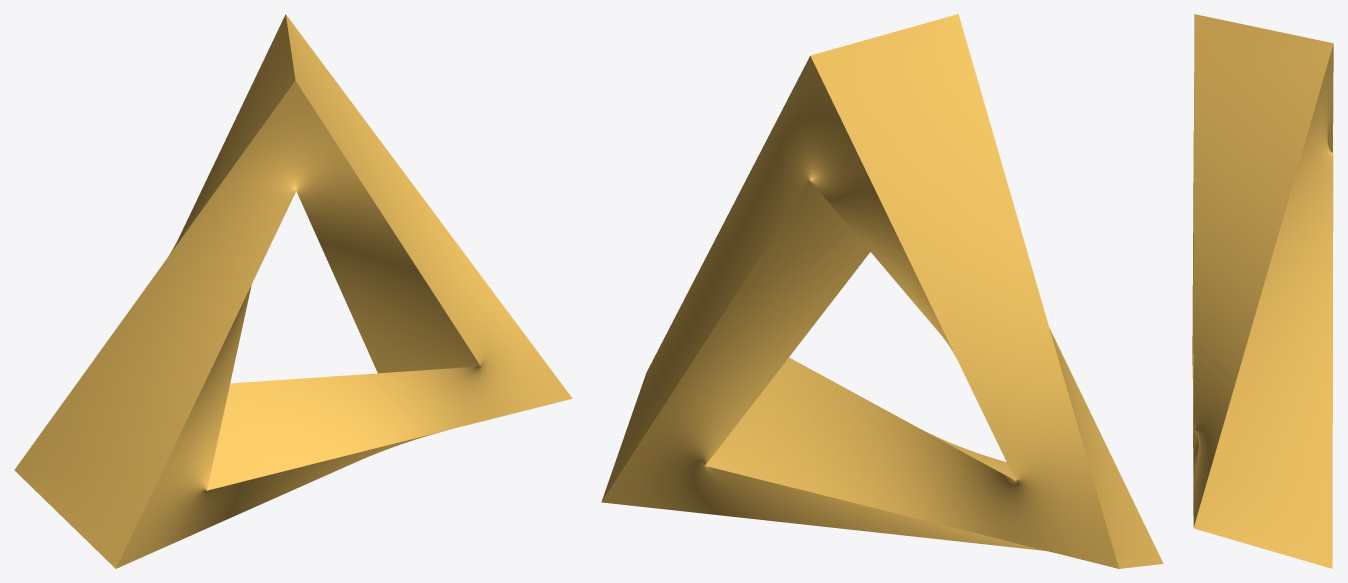
File: penrose.glb
The picture shows the model from 3 angles, left to right: view 1: azimuth 30°, elevation 25°; view 2: azimuth 150°, elevation 25°; view 3: azimuth 270°, elevation 25°; orthographic projection. The views are drawn at different scales.
Visible parts, largest first — view 1: Object_2; view 2: Object_2; view 3: Object_2.
Boxes of the visible parts, left/top/right/bottom form: Object_2: left=14, top=14, right=572, bottom=568; Object_2: left=601, top=14, right=1163, bottom=568; Object_2: left=1192, top=14, right=1333, bottom=568.
Size of the model in its own units: 8 by 6.95 by 2.03.
